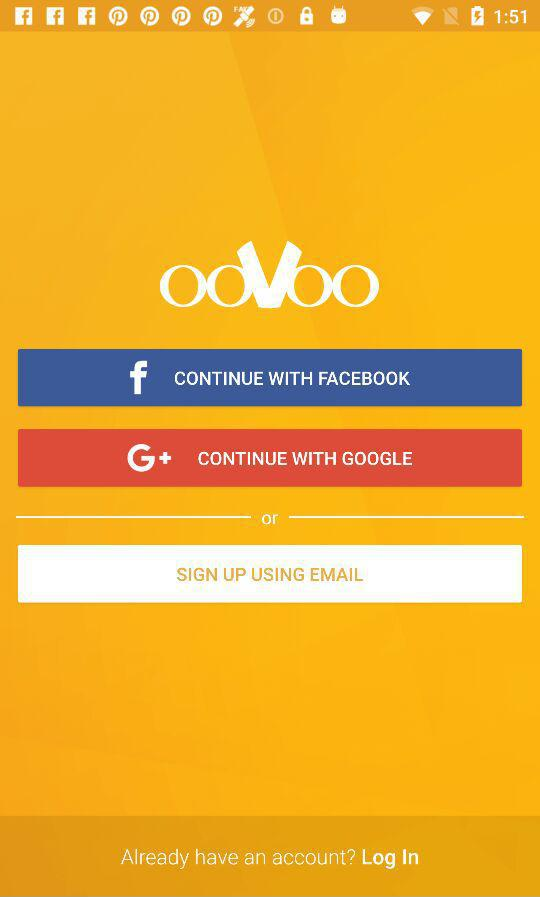Image: (160, 241, 381, 310)
Text: (261, 513, 280, 526)
TextButton: (1, 816, 540, 897), (18, 545, 523, 603), (19, 430, 522, 488), (19, 349, 522, 407)
UpperTaskBar: (1, 1, 540, 33)
